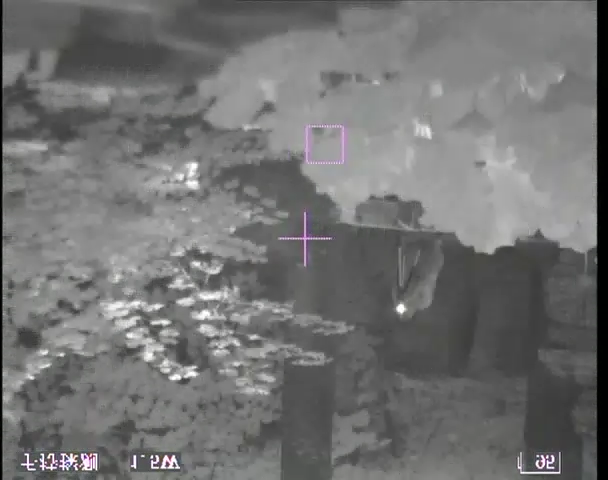my: (396, 302, 409, 316)
